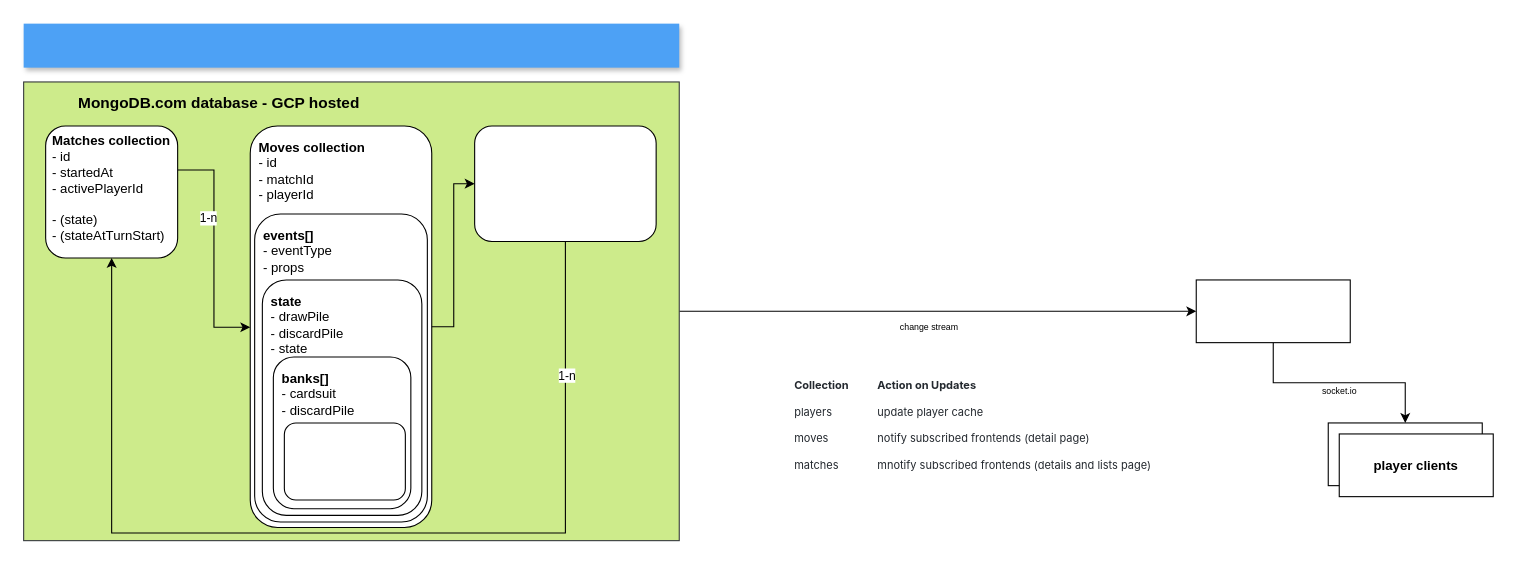
This 1513x561 diagram has some shape labels left out. Each missing label, with the centre of its shape:
Architecture: NoSQL Database: point 352,47
Arena server: point 1272,311
cardsuitstacks[] - suit - values[]: point 344,461
Players collection - id - name - username - role - country: point 565,183
